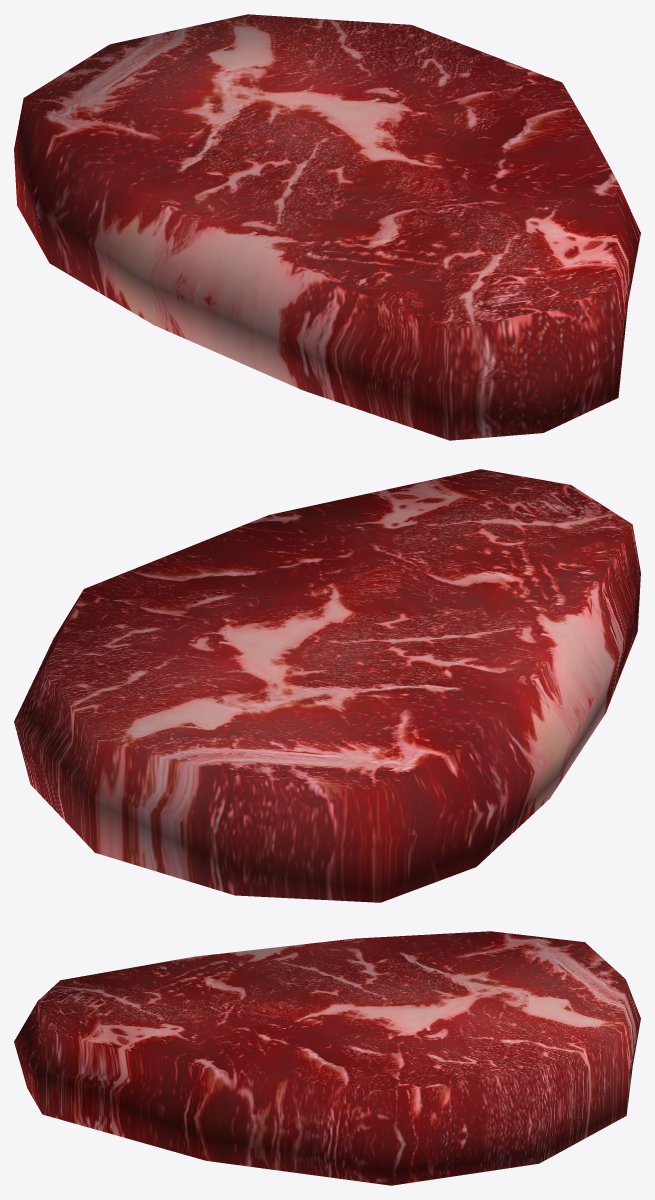
File: Steak.fbx
The picture shows the model from 3 angles, top to bottom: view 1: azimuth 30°, elevation 25°; view 2: azimuth 150°, elevation 25°; view 3: azimuth 270°, elevation 25°; orthographic projection. The views are drawn at different scales.
Parts seen in each view (by area): view 1: Steak; view 2: Steak; view 3: Steak.
Part boxes in pixels (x1,y1,x2,y2): Steak: (14, 14, 640, 440); Steak: (14, 469, 640, 902); Steak: (14, 931, 640, 1185).
Size of the model in its own units: 1.72 by 0.4261 by 2.44.
Materials: 1 (1 with a texture image).
